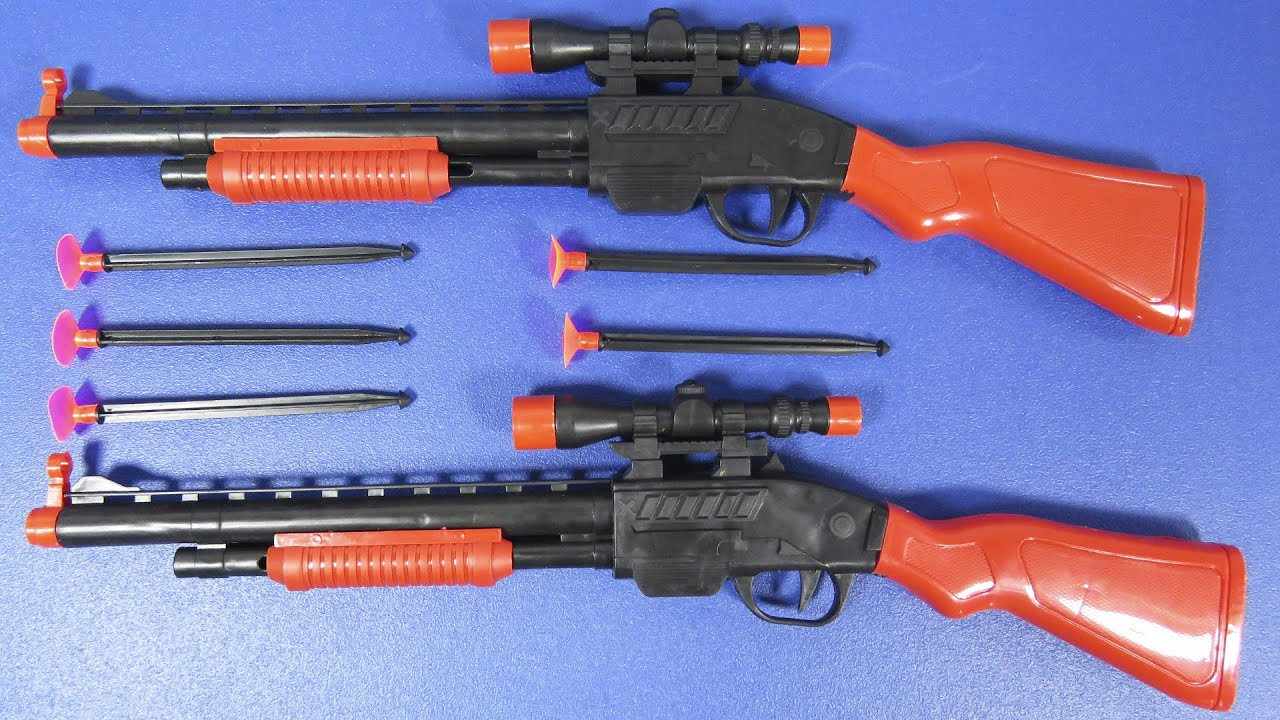Arma Falsa: (9, 397, 1271, 720), (17, 14, 1250, 338)
